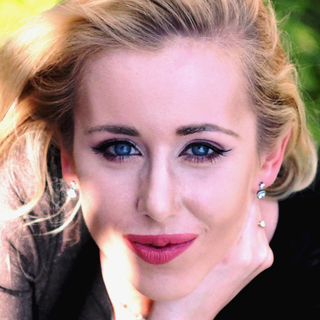eye: (88, 132, 144, 163), (174, 138, 229, 166)
